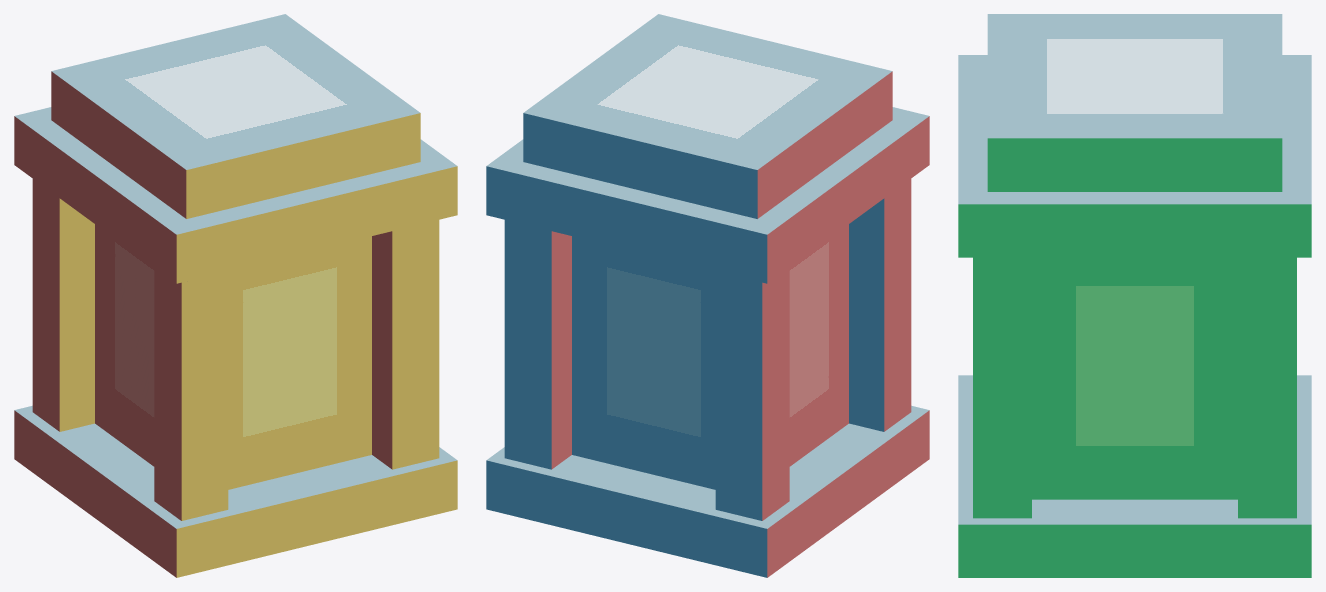
The model's file is lantern_floor_model.gltf.
The picture shows the model from 3 angles, left to right: view 1: azimuth 30°, elevation 25°; view 2: azimuth 150°, elevation 25°; view 3: azimuth 270°, elevation 25°; orthographic projection. The views are drawn at different scales.
Visible parts, largest first — view 1: mesh (×2); view 2: mesh (×2); view 3: mesh (×2).
Part boxes in pixels (x1,y1,x2,y2): mesh (×2): [14, 14, 457, 577]; mesh (×2): [486, 14, 929, 577]; mesh (×2): [958, 14, 1311, 577].
Size of the model in its own units: 0.375 by 0.5 by 0.375.
Materials: 2 (2 with a texture image).
